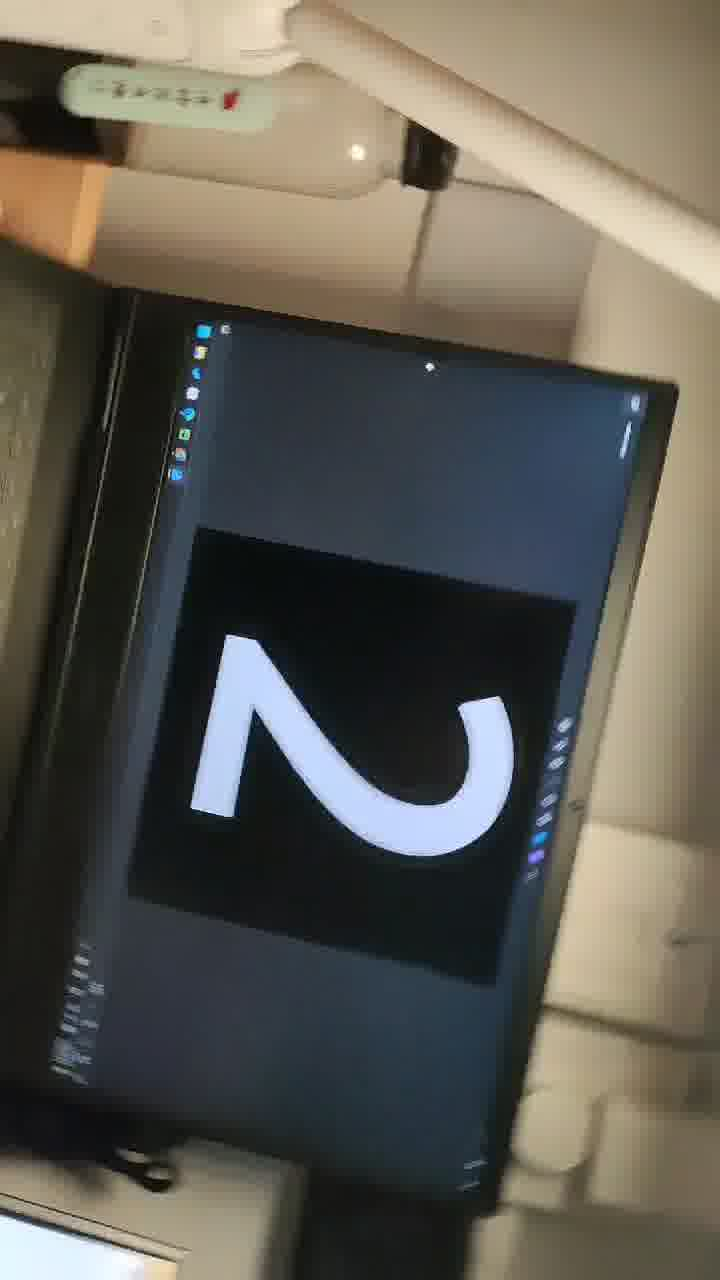two: (200, 559, 604, 997)
